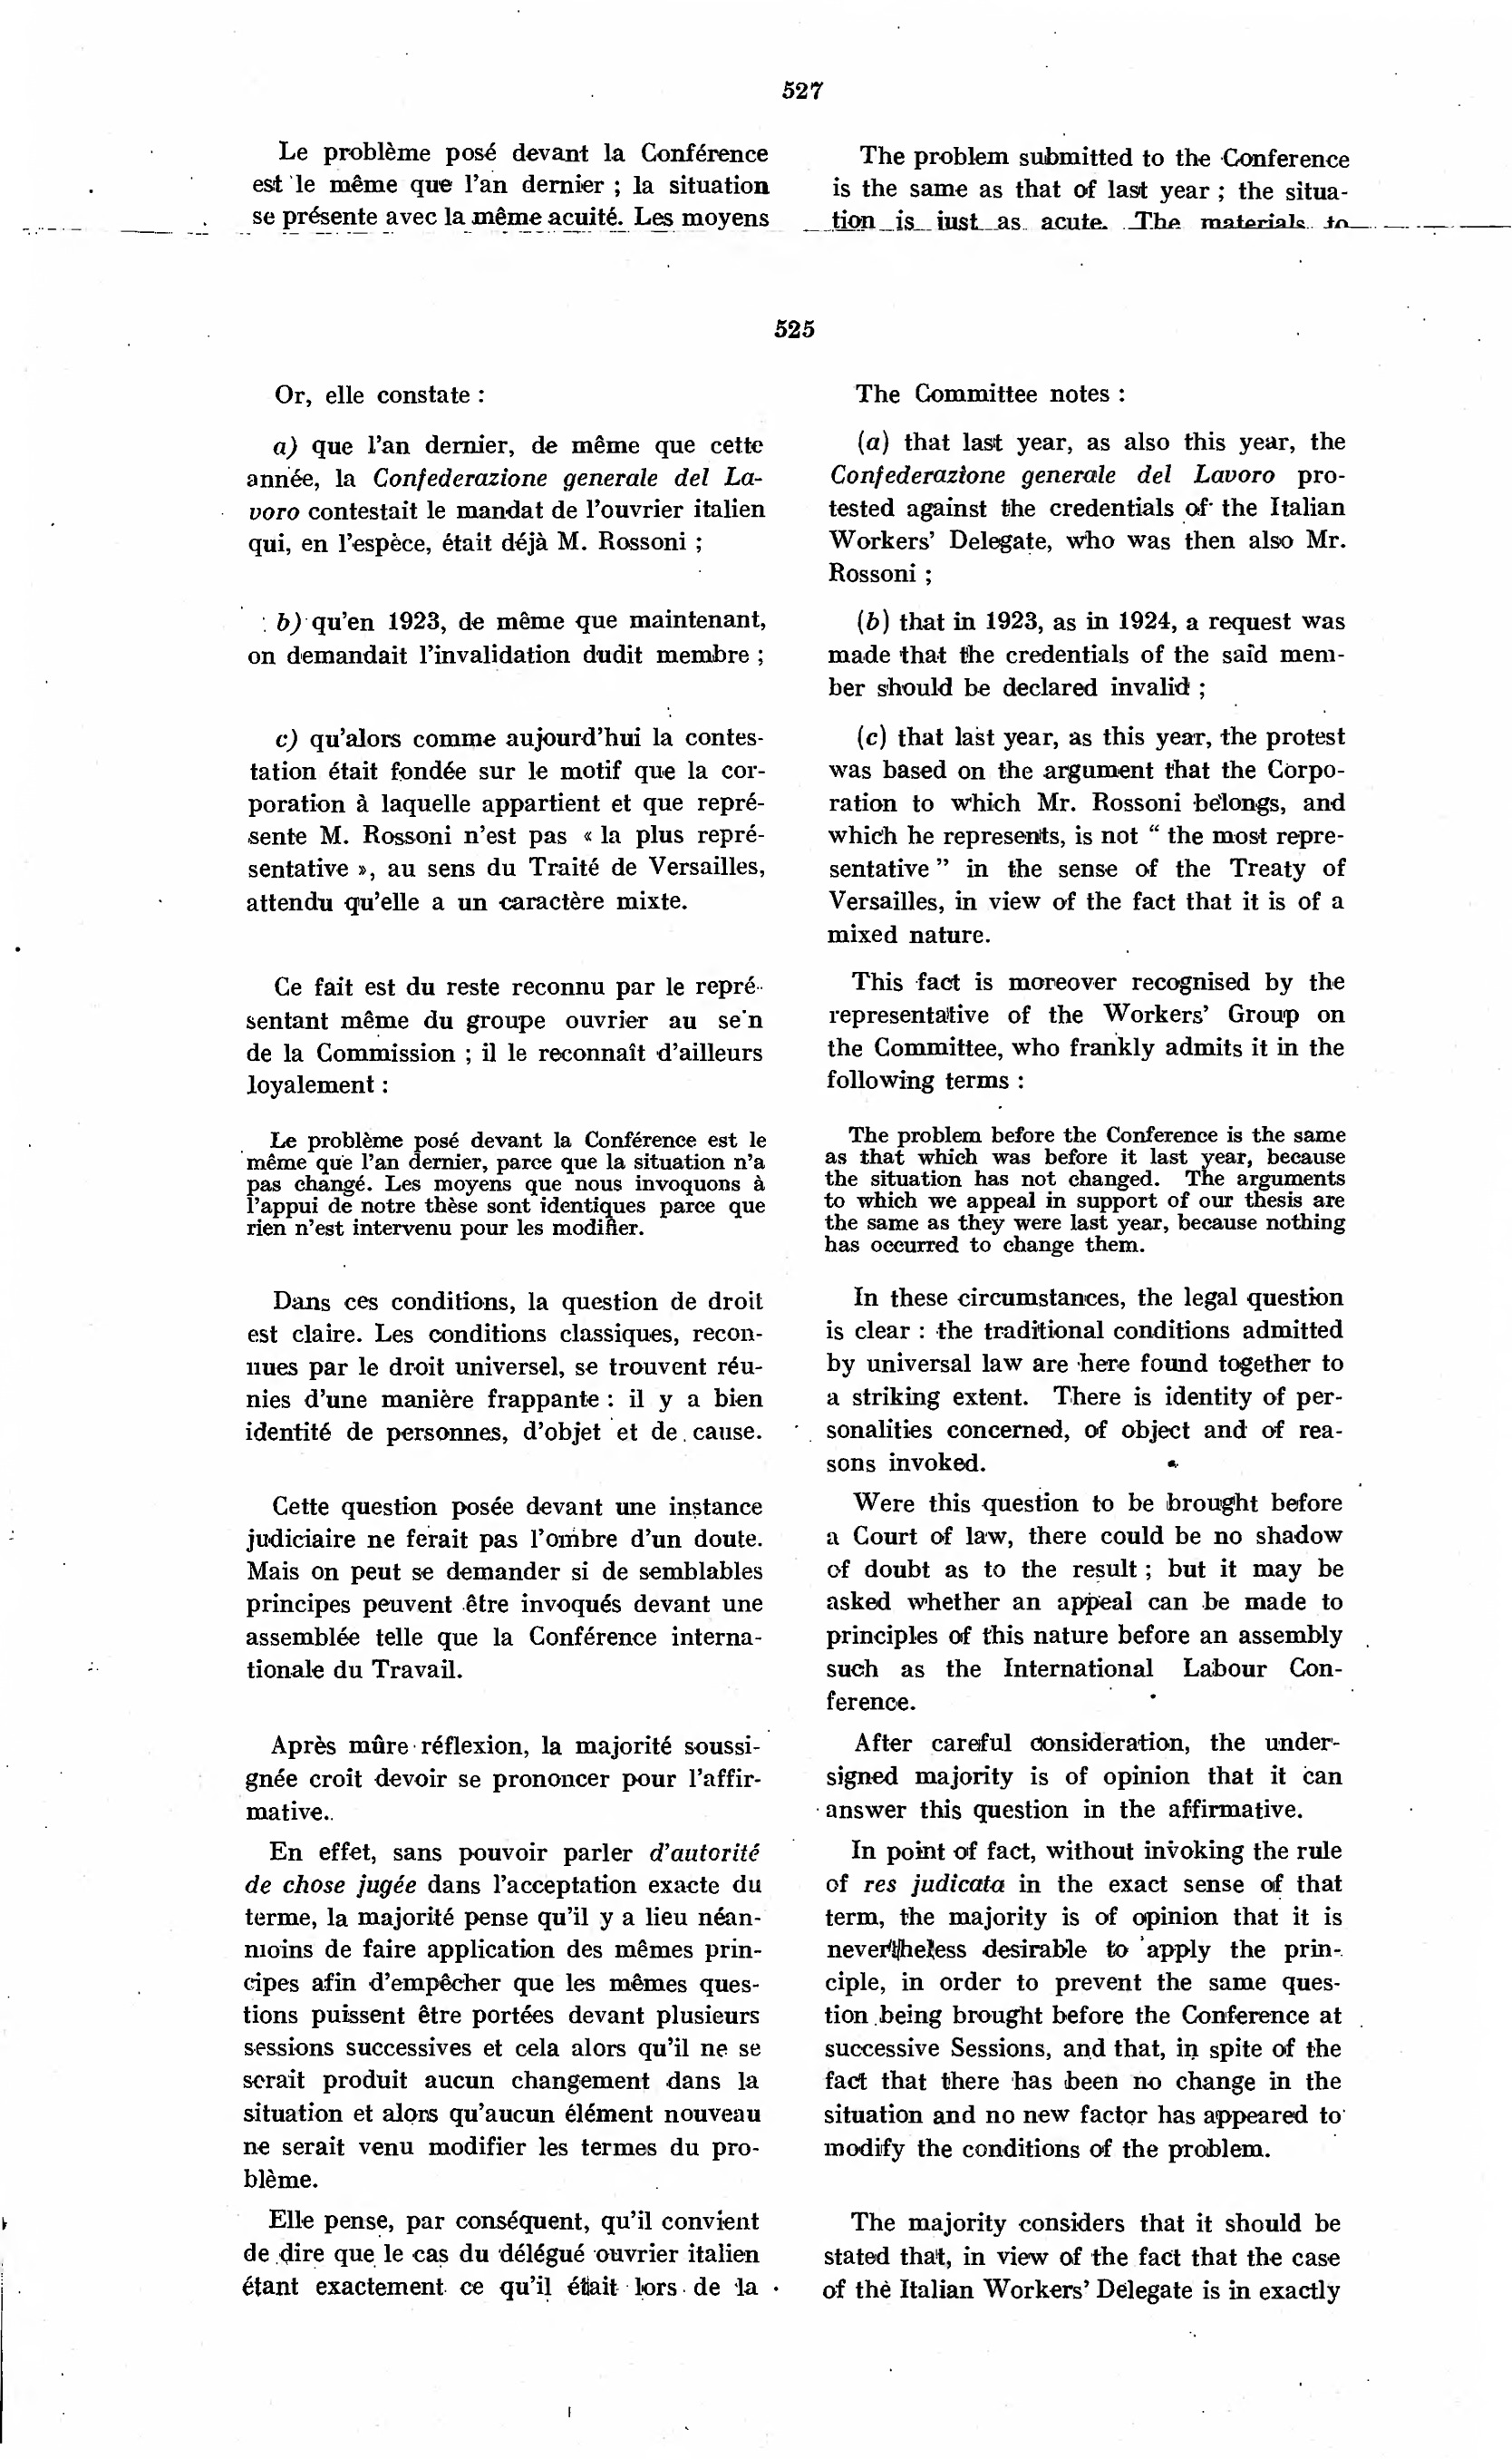MainZone-ListItem: (819, 719, 1354, 951), (238, 719, 772, 924), (819, 424, 1353, 593), (236, 424, 775, 565), (818, 600, 1352, 706), (238, 598, 773, 704)
MainZone-P: (237, 1834, 767, 2193), (819, 1834, 1350, 2169), (818, 1485, 1350, 1719), (818, 1279, 1351, 1479), (239, 1489, 767, 1689), (240, 1283, 770, 1455), (238, 966, 771, 1105), (819, 1119, 1350, 1258), (820, 962, 1353, 1097), (237, 1124, 772, 1244), (815, 2203, 1350, 2313), (237, 2202, 770, 2311), (242, 131, 779, 238), (820, 136, 1357, 241), (819, 1725, 1348, 1828), (239, 1725, 767, 1829), (835, 373, 1134, 413), (250, 374, 492, 417)
TitlePageZone: (765, 306, 824, 355), (773, 71, 831, 112)
